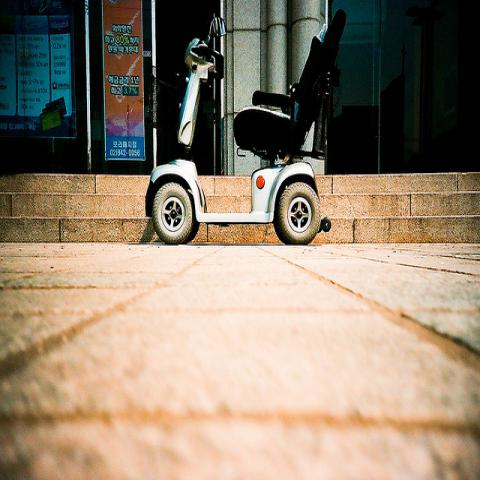motorcycle: (146, 7, 348, 248)
